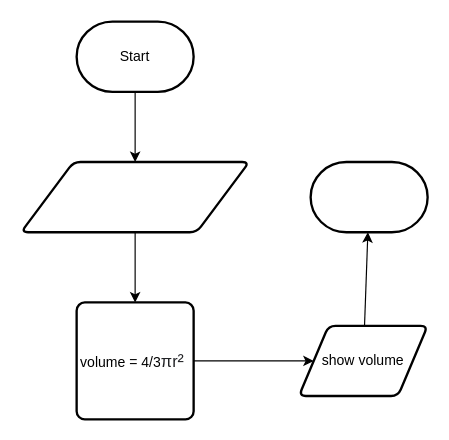
The diagram is 449 pixels wide and 440 high, and some of its shapes have lost their labels. The box of each missing label's shape, as (x1, y1, x2, y2) in pixels:
Enter radius of the sphere: (19, 160, 250, 233)
Stop: (309, 160, 428, 233)
